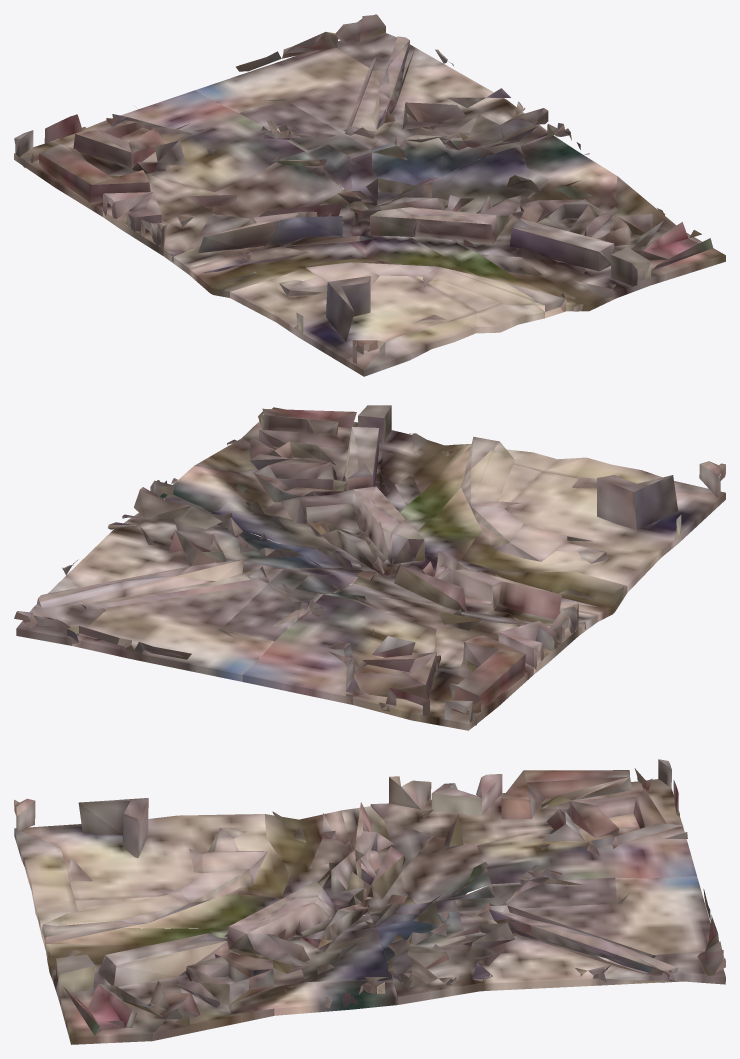
3 renders of one model, top to bottom at view 1: azimuth 30°, elevation 25°; view 2: azimuth 150°, elevation 25°; view 3: azimuth 270°, elevation 25°, orthographic. The views are drawn at different scales.
Parts seen in each view (by area): view 1: Mesh_0; view 2: Mesh_0; view 3: Mesh_0.
Boxes of the visible parts, x1=… form: Mesh_0: x1=14, y1=14, x2=725, y2=376; Mesh_0: x1=14, y1=405, x2=725, y2=730; Mesh_0: x1=14, y1=759, x2=725, y2=1044.
Size of the model in its own units: 532 by 64.53 by 659.
Materials: 1 (1 with a texture image).
